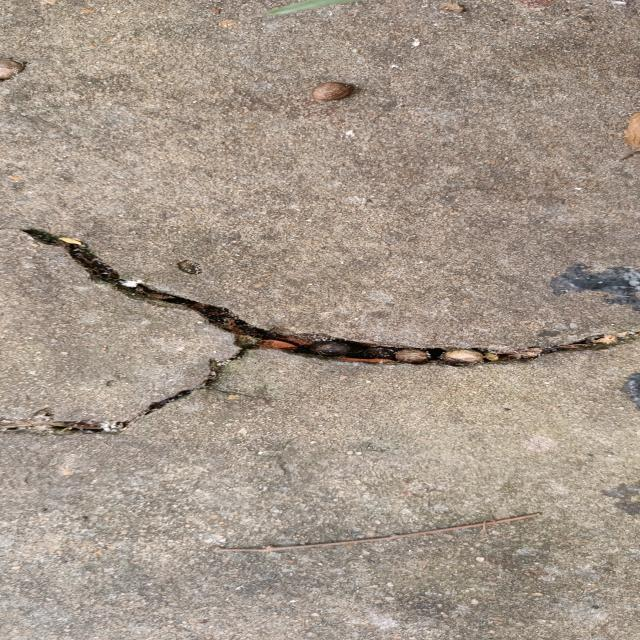branched cracks: (0, 228, 639, 432)
